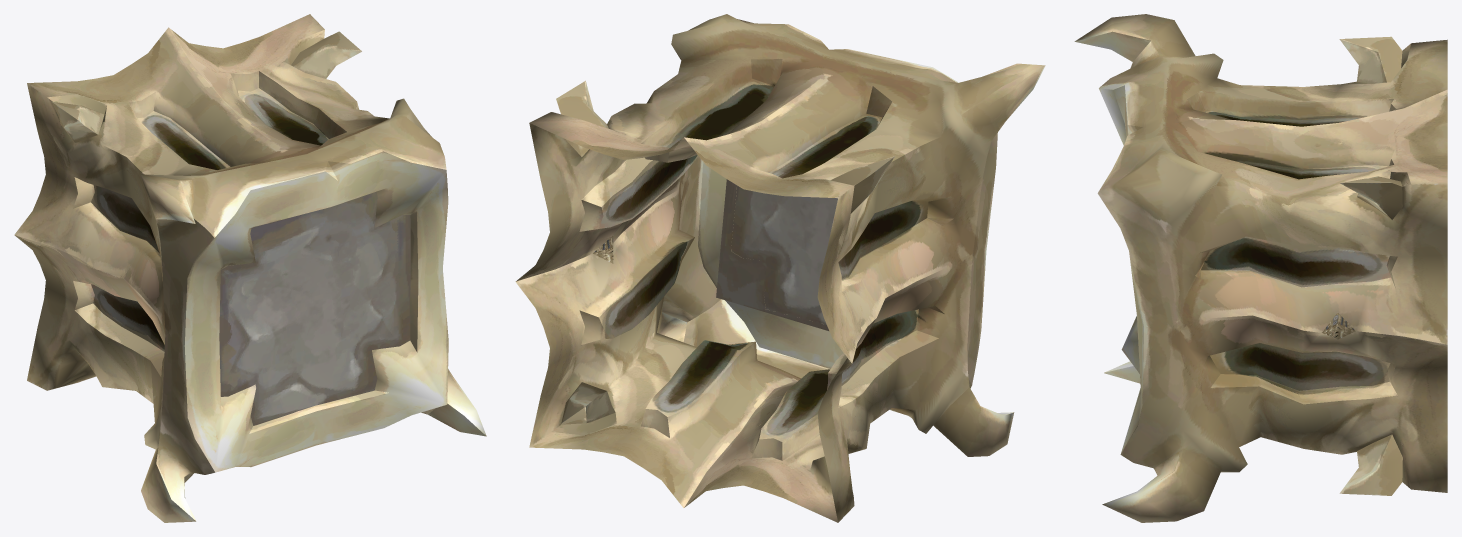
Rendered from HL_Crate_A_DmgState_02_Base.fbx.
The picture shows the model from 3 angles, left to right: view 1: azimuth 30°, elevation 25°; view 2: azimuth 150°, elevation 25°; view 3: azimuth 270°, elevation 25°; orthographic projection. The views are drawn at different scales.
Visible parts, largest first — view 1: HL_Crate_A_DmgState_02_Base; view 2: HL_Crate_A_DmgState_02_Base; view 3: HL_Crate_A_DmgState_02_Base.
Part boxes in pixels (box(x1,y1,x2,y2)): HL_Crate_A_DmgState_02_Base: box(14, 14, 486, 522); HL_Crate_A_DmgState_02_Base: box(515, 14, 1045, 522); HL_Crate_A_DmgState_02_Base: box(1074, 14, 1447, 522).
Bounding box in the file's own units: 151 × 153 × 141.
